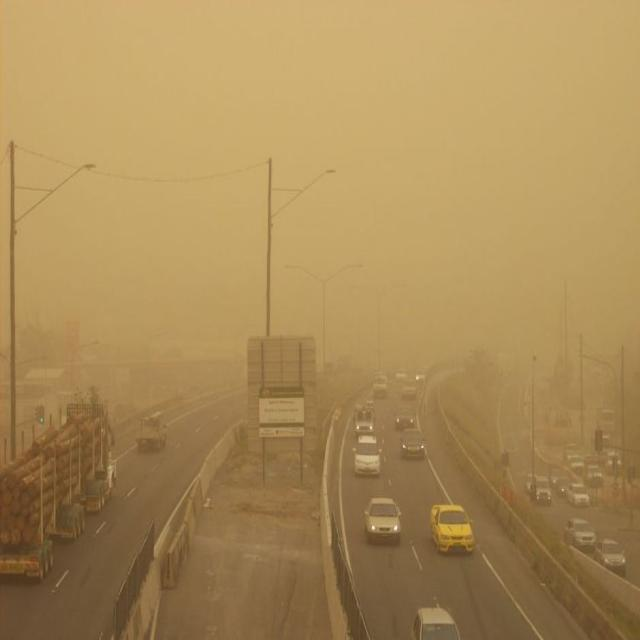bus: (0, 399, 116, 583), (136, 410, 166, 451), (354, 400, 376, 438), (594, 407, 617, 434)
car: (429, 503, 474, 554), (412, 601, 462, 638), (363, 496, 402, 543), (563, 518, 597, 553), (352, 436, 381, 477), (598, 539, 628, 577), (399, 428, 425, 459), (530, 477, 551, 502), (392, 405, 414, 428), (567, 481, 588, 502), (371, 376, 388, 398), (605, 451, 621, 474), (400, 379, 418, 398), (585, 465, 600, 487), (557, 474, 570, 493), (548, 464, 558, 488), (525, 472, 533, 491)
